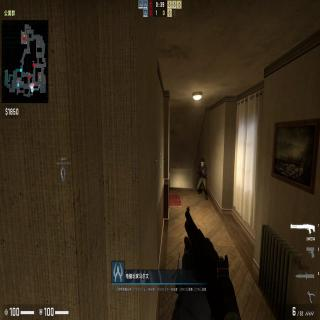T-Body: (196, 160, 208, 202)
T-Head: (200, 160, 204, 168)
